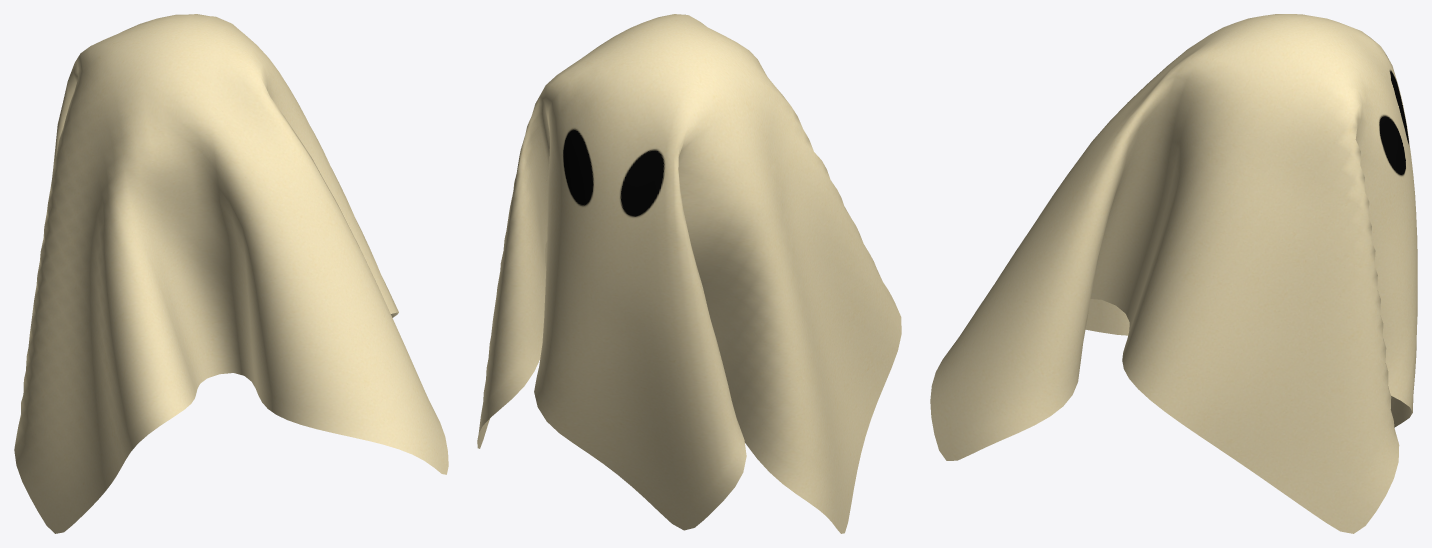
File: fllying ghost.fbx
The picture shows the model from 3 angles, left to right: view 1: azimuth 30°, elevation 25°; view 2: azimuth 150°, elevation 25°; view 3: azimuth 270°, elevation 25°; orthographic projection. The views are drawn at different scales.
Parts seen in each view (by area): view 1: Plane; view 2: Plane; view 3: Plane.
Boxes of the visible parts, bbox=[...] form: Plane: bbox=[14, 14, 448, 533]; Plane: bbox=[477, 14, 901, 533]; Plane: bbox=[930, 14, 1417, 533].
Bounding box in the file's own units: 107 × 148 × 134.
